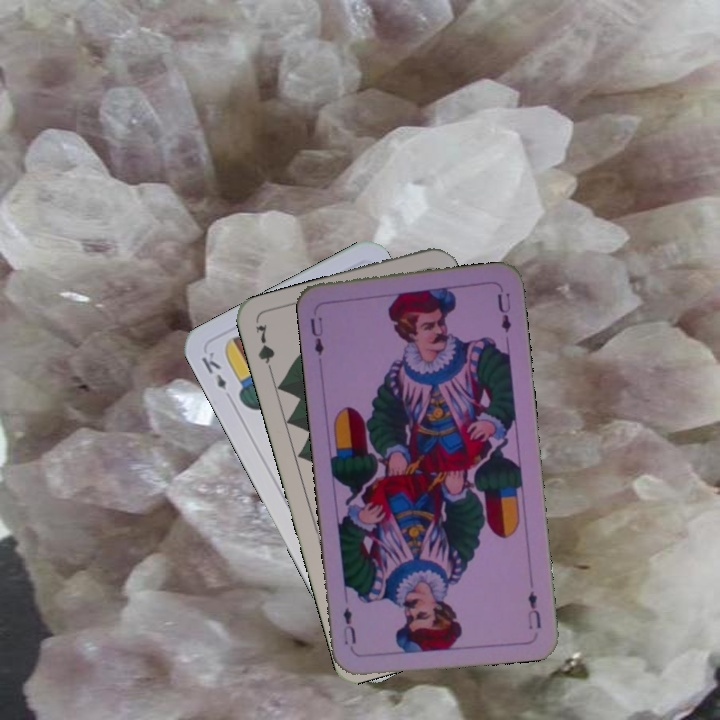EK: (197, 347, 229, 392)
EU: (306, 313, 327, 358), (523, 587, 544, 632)
G7: (251, 320, 278, 379)
